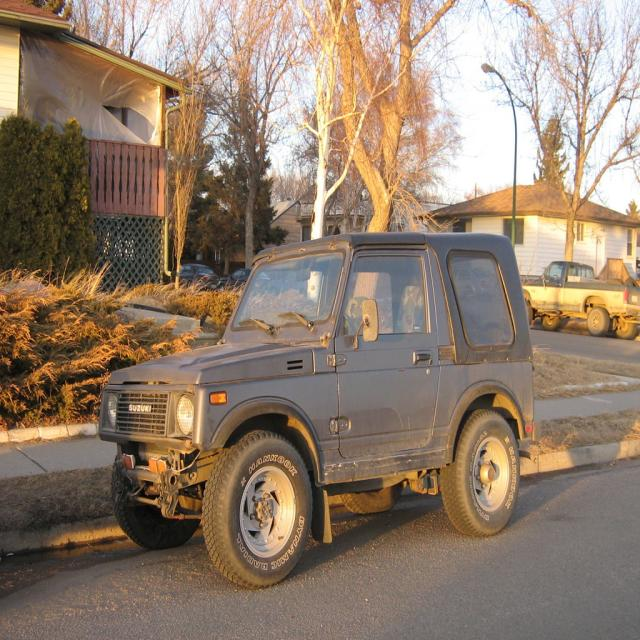car: (97, 233, 534, 588)
